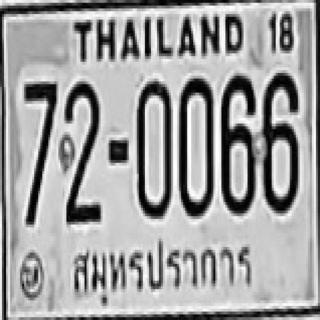N00: (177, 76, 213, 216), (135, 80, 171, 218)
N02: (57, 77, 100, 217)
N06: (261, 70, 297, 210), (219, 74, 254, 212)
N07: (22, 79, 56, 222), (22, 80, 56, 204), (22, 78, 56, 188), (22, 79, 56, 168)
P57: (66, 236, 255, 304)
